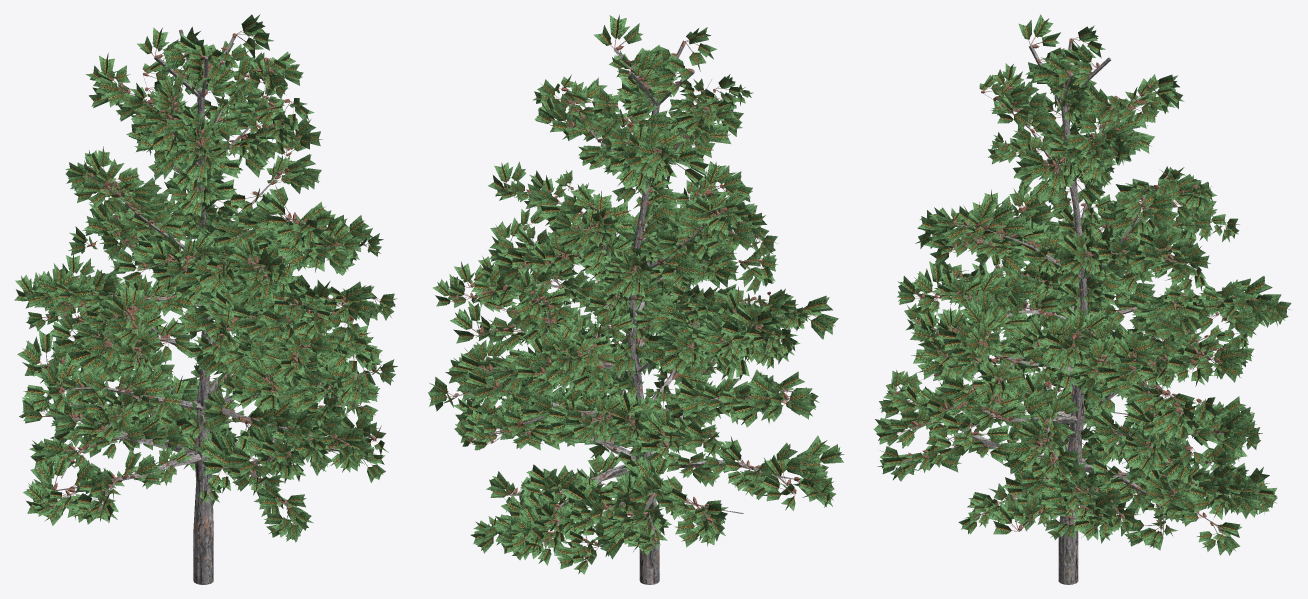
Rendered from pine.obj.
3 renders of one model, left to right at view 1: azimuth 30°, elevation 25°; view 2: azimuth 150°, elevation 25°; view 3: azimuth 270°, elevation 25°, orthographic. The views are drawn at different scales.
Parts seen in each view (by area): view 1: twigs_Cube.001, tree; view 2: twigs_Cube.001, tree; view 3: twigs_Cube.001, tree.
Boxes of the visible parts, x1=… form: twigs_Cube.001: x1=14, y1=14, x2=397, y2=542; tree: x1=42, y1=29, x2=375, y2=584; twigs_Cube.001: x1=428, y1=14, x2=844, y2=574; tree: x1=455, y1=40, x2=814, y2=584; twigs_Cube.001: x1=873, y1=14, x2=1291, y2=555; tree: x1=901, y1=39, x2=1257, y2=584.
Bounding box in the file's own units: 375 × 546 × 379.
2 materials, 2 textured.
